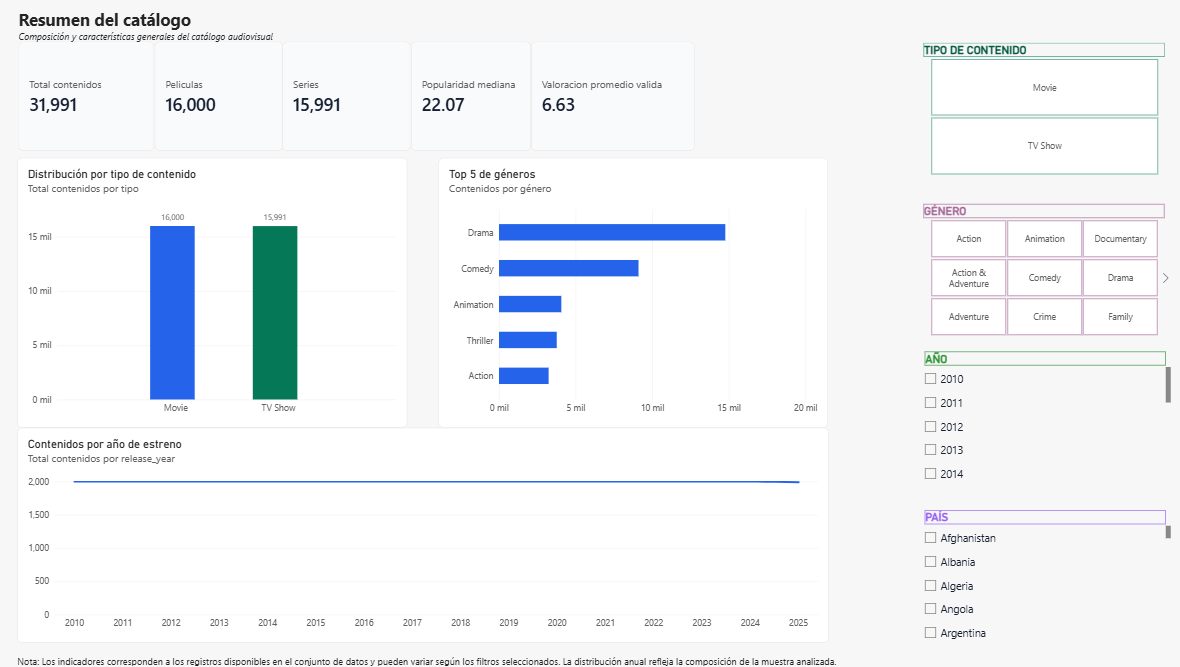

This screenshot's page, from the dashboard's own definition file:
{"tool":"powerbi","page":{"name":"Resumen","canvas":[1920,1080],"ordinal":0},"visuals":[{"type":"cardVisual","fields":{"Data":["catalogo.Total contenidos"]},"box":[51.2,67.2,217.5,175],"z":0},{"type":"cardVisual","fields":{"Data":["catalogo.Peliculas"]},"box":[269.5,67.2,205,175],"z":1000},{"type":"cardVisual","fields":{"Data":["catalogo.Series"]},"box":[474.5,67.2,205,175],"z":2000},{"type":"cardVisual","fields":{"Data":["catalogo.Popularidad mediana"]},"box":[679.5,68.9,192.5,175],"z":3000},{"type":"cardVisual","fields":{"Data":["catalogo.Valoracion promedio valida"]},"box":[872.9,68.9,262.5,175],"z":4000},{"type":"columnChart","title":"Distribución por tipo de contenido","fields":{"Category":["catalogo.type"],"Y":["catalogo.Total contenidos"]},"box":[50,254,624,432],"z":5000},{"type":"lineChart","title":"Contenidos por año de estreno","fields":{"Category":["catalogo.release_year"],"Y":["catalogo.Total contenidos"]},"box":[50,686,1298,344],"z":6000},{"type":"barChart","title":"Top 5 de géneros","fields":{"Category":["dim_generos.genre"],"Y":["catalogo.Total contenidos"]},"box":[724,254,623.3,431.7],"z":7000},{"type":"slicer","fields":{"Values":["dim_generos.genre"]},"box":[1492,328,401.7,211.7],"z":8000},{"type":"slicer","fields":{"Values":["catalogo.type"]},"box":[1492,70,402,212],"z":9000},{"type":"slicer","fields":{"Values":["dim_paises.country"]},"box":[1494,818,401.7,211.7],"z":10000},{"type":"slicer","fields":{"Values":["dim_anio_estreno.release_year"]},"box":[1494,564,401.7,211.7],"z":11000},{"type":"textbox","box":[50,1050,1350,30],"z":12000},{"type":"textbox","box":[52,14,556,74],"z":13000}]}

Visuals, with their boxes in screenshot pixels (x1, y1, x2, y2), scaled from the page's 1920x1080 canvas onto the 1180x667 screenshot:
cardVisual - catalogo.Total contenidos: box(31, 42, 165, 150)
cardVisual - catalogo.Peliculas: box(166, 42, 292, 150)
cardVisual - catalogo.Series: box(292, 42, 418, 150)
cardVisual - catalogo.Popularidad mediana: box(418, 43, 536, 151)
cardVisual - catalogo.Valoracion promedio valida: box(536, 43, 698, 151)
"Distribución por tipo de contenido" columnChart: box(31, 157, 414, 424)
"Contenidos por año de estreno" lineChart: box(31, 424, 828, 636)
"Top 5 de géneros" barChart: box(445, 157, 828, 423)
slicer - dim_generos.genre: box(917, 203, 1164, 333)
slicer - catalogo.type: box(917, 43, 1164, 174)
slicer - dim_paises.country: box(918, 505, 1165, 636)
slicer - dim_anio_estreno.release_year: box(918, 348, 1165, 479)
textbox: box(31, 648, 860, 666)
textbox: box(32, 9, 374, 54)
